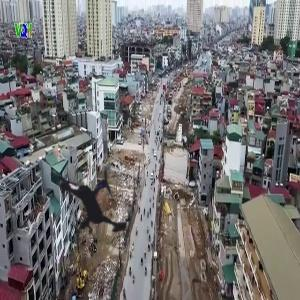drone: (27, 131, 167, 271)
